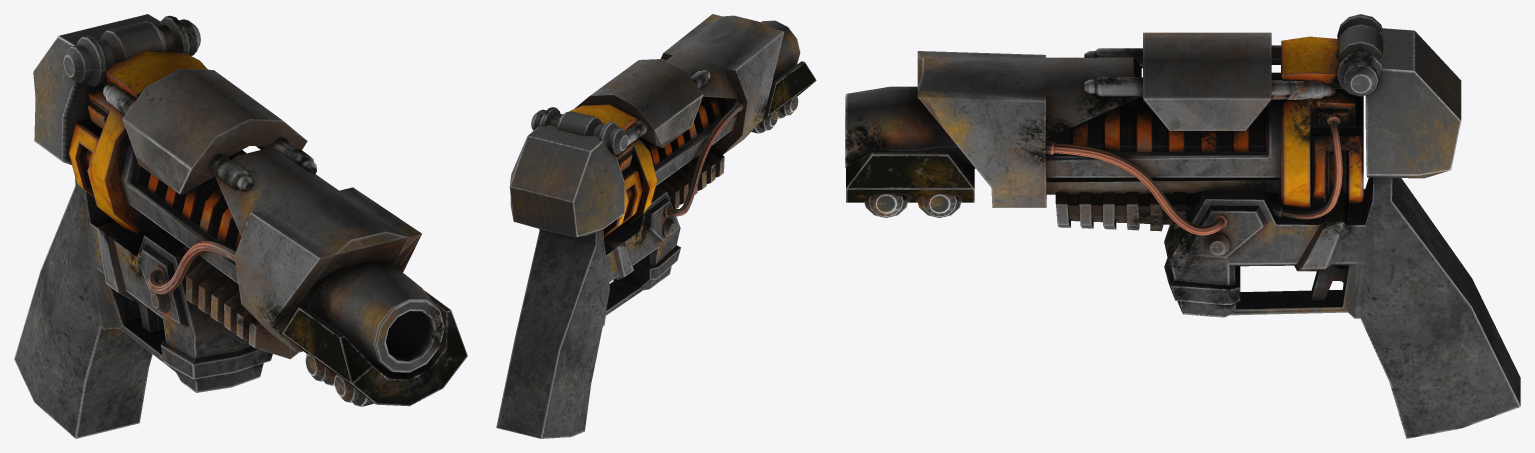
File: scifi_gun.glb
The picture shows the model from 3 angles, left to right: view 1: azimuth 30°, elevation 25°; view 2: azimuth 150°, elevation 25°; view 3: azimuth 270°, elevation 25°; orthographic projection. The views are drawn at different scales.
Parts seen in each view (by area): view 1: Object_2; view 2: Object_2; view 3: Object_2.
Part boxes in pixels (x1=…): Object_2: x1=14, y1=14, x2=467, y2=438; Object_2: x1=496, y1=14, x2=816, y2=438; Object_2: x1=845, y1=14, x2=1520, y2=438.
Size of the model in its own units: 159 by 438 by 685.
Materials: 1 (1 with a texture image).
